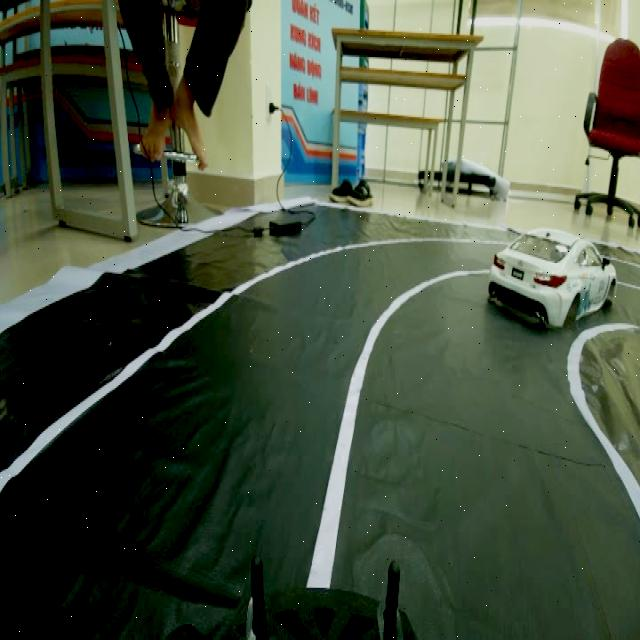car: (494, 190, 618, 331)
